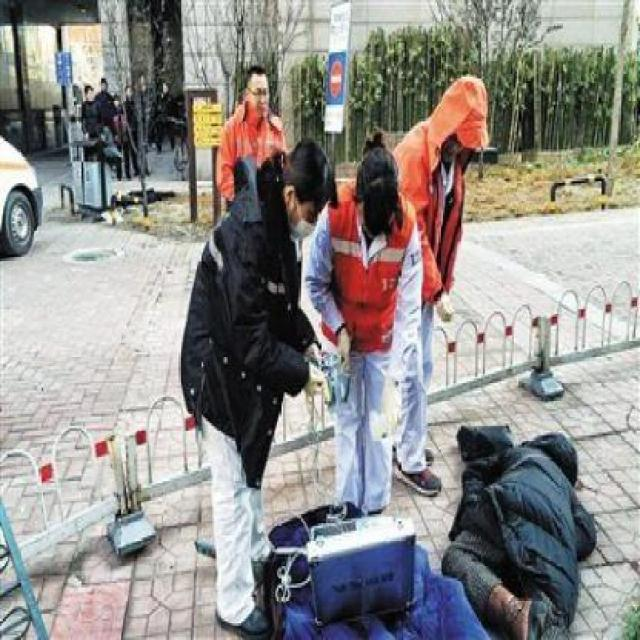fall: (425, 402, 609, 638)
